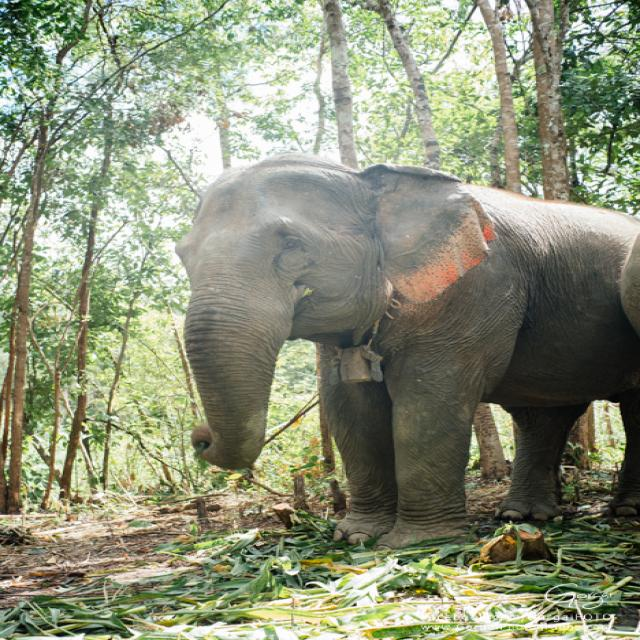Elephant: (155, 130, 640, 548)
